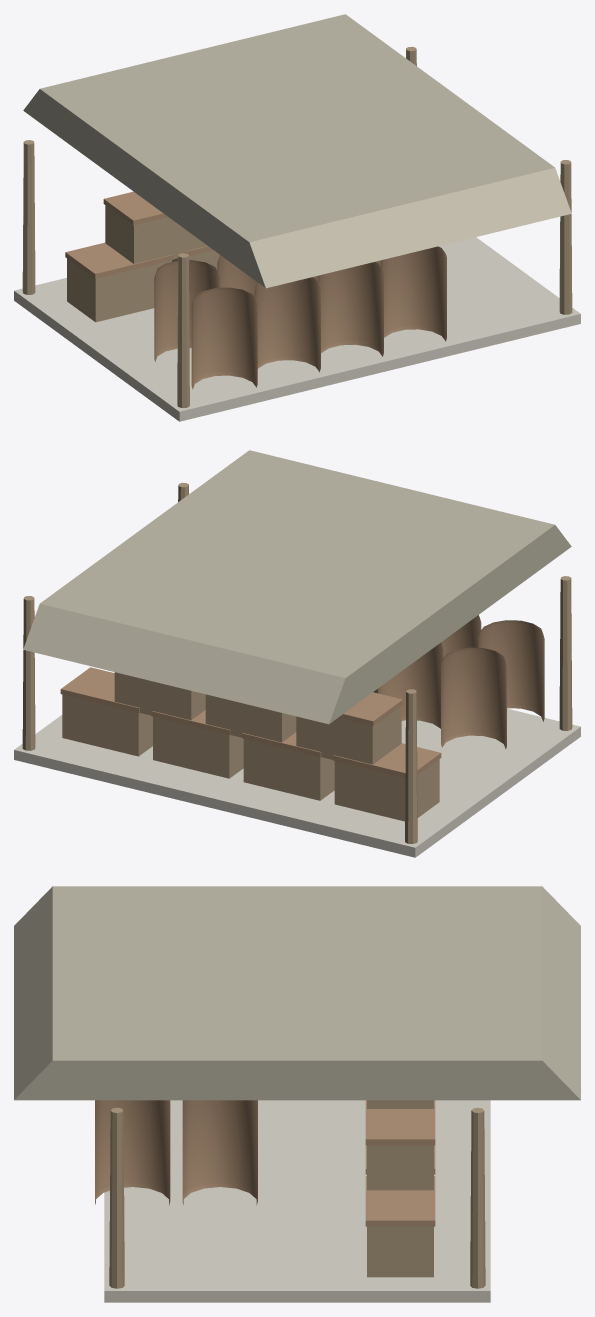
The model's file is trench-line-1917-supply-dump-44fc4014__24121.glb.
3 views of the same model, one above another, from view 1: azimuth 30°, elevation 25°; view 2: azimuth 150°, elevation 25°; view 3: azimuth 270°, elevation 25° (orthographic). The views are drawn at different scales.
Parts seen in each view (by area): view 1: supply-dump; view 2: supply-dump; view 3: supply-dump.
Part boxes in pixels (x1,y1,x2,y2): supply-dump: (14,14,580,421); supply-dump: (14,450,580,857); supply-dump: (14,886,580,1302).
Bounding box in the file's own units: 4.2 × 1.84 × 4.4.
